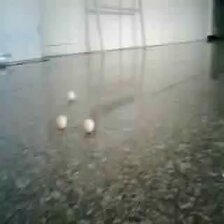w: (82, 119, 95, 133), (55, 116, 67, 129), (67, 91, 74, 99)
